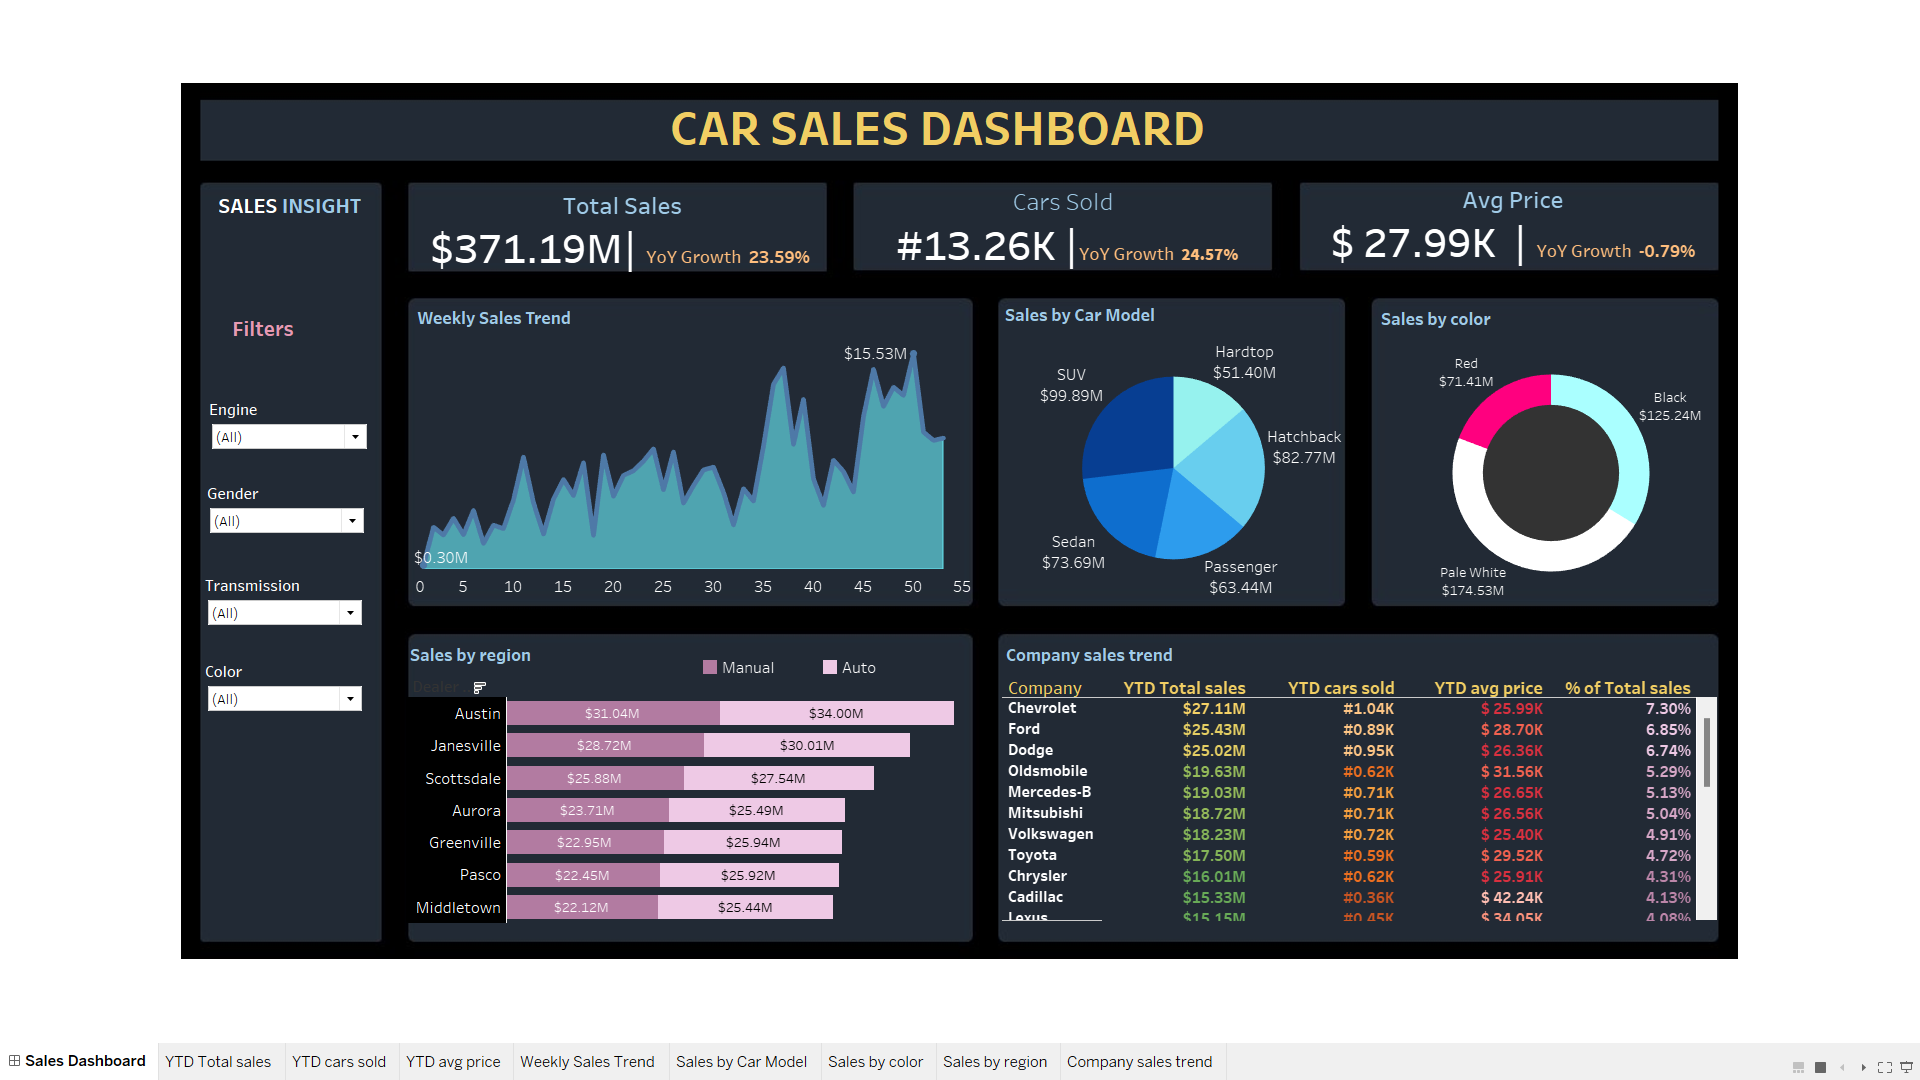

Layout of this report page (visuals, bound fields, positions):
{"tool":"tableau","page":{"name":"Sales Dashboard ","canvas":[1600,900],"ordinal":0},"visuals":[{"type":"image","param":"C:/Users/bharath/Downloads/Car Sales Background.jpg","box":[8,8,1584,884]},{"type":"text","box":[221,29,1113,52]},{"type":"worksheet","title":"YTD cars sold","mark":"Automatic","box":[694,111,417,91]},{"type":"worksheet","title":"YTD avg price","mark":"Automatic","box":[1144,112,417,86]},{"type":"worksheet","title":"YTD Total sales","mark":"Automatic","box":[257,116,406,89]},{"type":"text","box":[55,119,150,30]},{"type":"worksheet","title":"Sales by Car Model","mark":"Pie","box":[841,228,345,300]},{"type":"worksheet","title":"Weekly Sales Trend","mark":"Area","rows":["Calculation_1314488196853420032","Calculation_1314488196853420032"],"cols":["Date"],"box":[253,231,560,297]},{"type":"worksheet","title":"Sales by color","mark":"Pie","rows":["Calculation_1314488196879028234","Calculation_1314488196879101964"],"box":[1217,232,348,302]},{"type":"text","box":[69,242,100,30]},{"type":"filter","title":"Weekly Sales Trend","param":"[federated.146algl1eug0c91ds6okz1nr88jr].[none:Engine:nk]","box":[49,328,161,66]},{"type":"filter","title":"Weekly Sales Trend","param":"[federated.146algl1eug0c91ds6okz1nr88jr].[none:Gender:nk]","box":[47,412,160,59]},{"type":"filter","title":"Weekly Sales Trend","param":"[federated.146algl1eug0c91ds6okz1nr88jr].[none:Transmission:nk]","box":[45,504,160,59]},{"type":"legend","title":"Sales by region","param":"[federated.146algl1eug0c91ds6okz1nr88jr].[none:Transmission:nk]","box":[540,564,248,56]},{"type":"worksheet","title":"Sales by region","mark":"Automatic","rows":["Dealer_Region"],"cols":["Calculation_1314488196853420032"],"box":[246,568,570,284]},{"type":"worksheet","title":"Company sales trend","mark":"Automatic","rows":["Company"],"box":[842,568,715,282]},{"type":"filter","title":"Weekly Sales Trend","param":"[federated.146algl1eug0c91ds6okz1nr88jr].[none:Color:nk]","box":[45,590,160,72]}]}

Visuals, with their boxes on the page's 1600x900 design canvas (x1, y1, x2, y2). These are canvas units, not pixel positions in the 1920x1080 screenshot, which may show the page scaled, cropped or inside an application window:
image: box=[8, 8, 1592, 892]
text: box=[221, 29, 1334, 81]
"YTD cars sold" worksheet: box=[694, 111, 1111, 202]
"YTD avg price" worksheet: box=[1144, 112, 1561, 198]
"YTD Total sales" worksheet: box=[257, 116, 663, 205]
text: box=[55, 119, 205, 149]
"Sales by Car Model" worksheet (Pie marks): box=[841, 228, 1186, 528]
"Weekly Sales Trend" worksheet (Area marks): box=[253, 231, 813, 528]
"Sales by color" worksheet (Pie marks): box=[1217, 232, 1565, 534]
text: box=[69, 242, 169, 272]
"Weekly Sales Trend" filter: box=[49, 328, 210, 394]
"Weekly Sales Trend" filter: box=[47, 412, 207, 471]
"Weekly Sales Trend" filter: box=[45, 504, 205, 563]
"Sales by region" legend: box=[540, 564, 788, 620]
"Sales by region" worksheet: box=[246, 568, 816, 852]
"Company sales trend" worksheet: box=[842, 568, 1557, 850]
"Weekly Sales Trend" filter: box=[45, 590, 205, 662]
